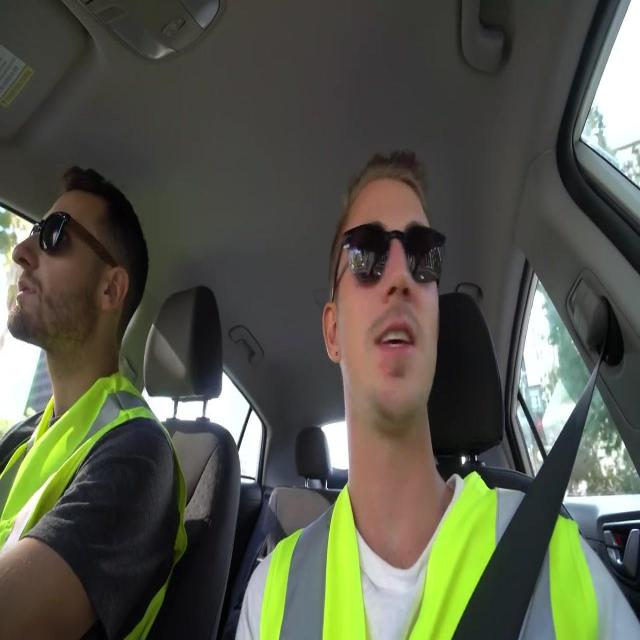Reflective-Jacket: (253, 472, 626, 640), (1, 365, 194, 639)
